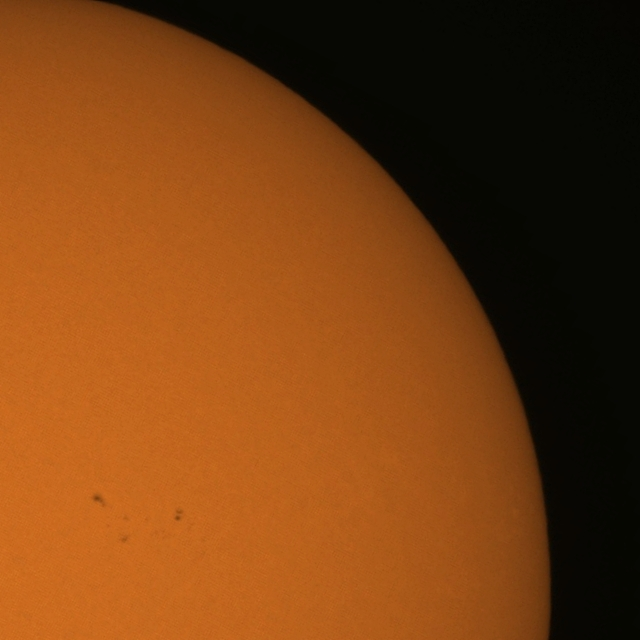sunspot: (91, 493, 107, 509), (173, 508, 184, 522)
